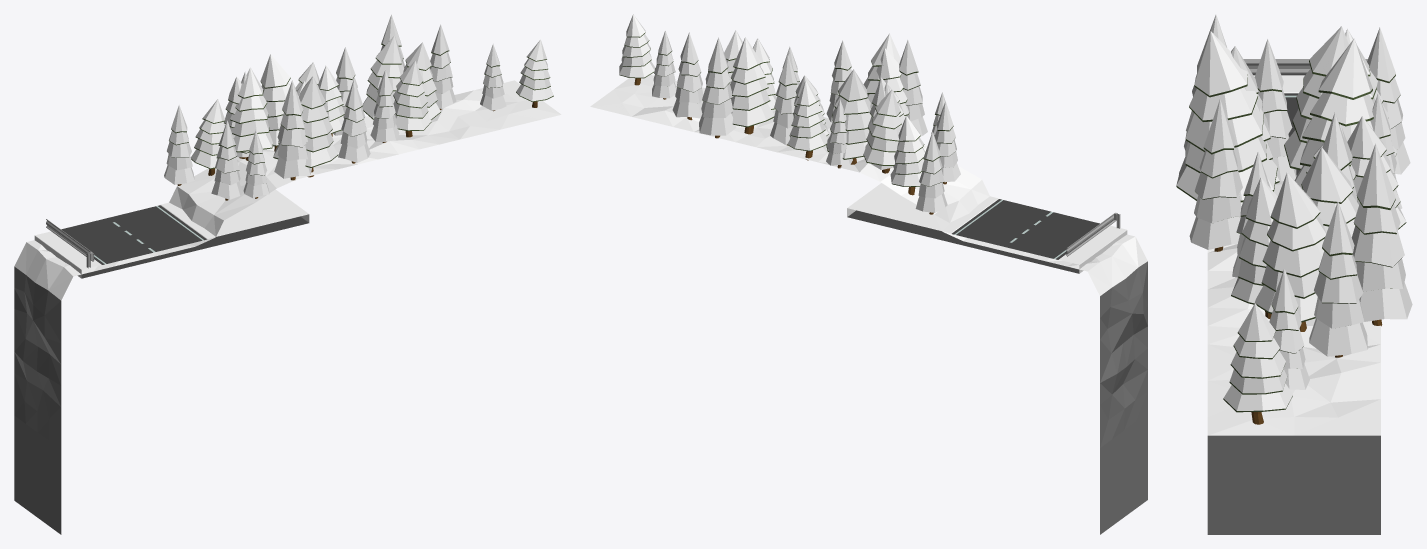
File: SnowRoadStraight.fbx
3 views of the same model, side by side, from view 1: azimuth 30°, elevation 25°; view 2: azimuth 150°, elevation 25°; view 3: azimuth 270°, elevation 25° (orthographic). The views are drawn at different scales.
Visible parts, largest first — view 1: SRSPlane, SRSRoad, SRSPlane|pineTree05|Dupli|4, SRSPlane|pineTree04|Dupli|3, SRSPlane|pineTree04|Dupli|19, SRSPlane|pineTree04|Dupli|21, SRSPlane|pineTree05|Dupli|8, SRSPlane|pineTree04|Dupli|15, SRSPlane|pineTree05|Dupli|18, SRSPlane|pineTree04|Dupli|11, SRSPlane|pineTree05|Dupli|16, SRSPlane|pineTree04|Dupli|23 (+8 smaller); view 2: SRSPlane, SRSRoad, SRSPlane|pineTree04|Dupli|11, SRSPlane|pineTree05|Dupli|12, SRSPlane|pineTree04|Dupli|15, SRSPlane|pineTree04|Dupli|1, SRSPlane|pineTree04|Dupli|7, SRSPlane|pineTree05|Dupli|22, SRSPlane|pineTree04|Dupli|17, SRSPlane|pineTree05|Dupli|18, SRSPlane|pineTree04|Dupli|23, SRSPlane|pineTree05|Dupli|10 (+7 smaller); view 3: SRSPlane, SRSPlane|pineTree04|Dupli|19, SRSPlane|pineTree05|Dupli|12, SRSPlane|pineTree04|Dupli|13, SRSPlane|pineTree05|Dupli|22, SRSPlane|pineTree05|Dupli|8, SRSPlane|pineTree04|Dupli|23, SRSPlane|pineTree04|Dupli|15, SRSPlane|pineTree04|Dupli|21, SRSPlane|pineTree05|Dupli|16, SRSPlane|pineTree04|Dupli|3, SRSPlane|pineTree05|Dupli|14 (+10 smaller).
Boxes of the visible parts, <box> form: SRSPlane: <box>14,80,561,534</box>; SRSRoad: <box>34,189,309,278</box>; SRSPlane|pineTree05|Dupli|4: <box>274,80,311,180</box>; SRSPlane|pineTree04|Dupli|3: <box>230,67,272,160</box>; SRSPlane|pineTree04|Dupli|19: <box>299,76,338,177</box>; SRSPlane|pineTree04|Dupli|21: <box>393,60,431,137</box>; SRSPlane|pineTree05|Dupli|8: <box>338,79,370,163</box>; SRSPlane|pineTree04|Dupli|15: <box>260,54,290,151</box>; SRSPlane|pineTree05|Dupli|18: <box>164,105,194,185</box>; SRSPlane|pineTree04|Dupli|11: <box>362,35,404,119</box>; SRSPlane|pineTree05|Dupli|16: <box>211,120,242,200</box>; SRSPlane|pineTree04|Dupli|23: <box>516,39,553,107</box>; SRSPlane: <box>590,74,1147,534</box>; SRSRoad: <box>847,183,1127,273</box>; SRSPlane|pineTree04|Dupli|11: <box>730,37,774,134</box>; SRSPlane|pineTree05|Dupli|12: <box>699,37,736,138</box>; SRSPlane|pineTree04|Dupli|15: <box>826,69,871,164</box>; SRSPlane|pineTree04|Dupli|1: <box>863,89,901,173</box>; SRSPlane|pineTree04|Dupli|7: <box>787,80,827,160</box>; SRSPlane|pineTree05|Dupli|22: <box>672,32,703,120</box>; SRSPlane|pineTree04|Dupli|17: <box>890,115,925,195</box>; SRSPlane|pineTree05|Dupli|18: <box>915,131,947,214</box>; SRSPlane|pineTree04|Dupli|23: <box>619,14,655,85</box>; SRSPlane|pineTree05|Dupli|10: <box>770,54,797,145</box>; SRSPlane: <box>1207,180,1380,534</box>; SRSPlane|pineTree04|Dupli|19: <box>1176,31,1277,202</box>; SRSPlane|pineTree05|Dupli|12: <box>1351,144,1412,326</box>; SRSPlane|pineTree04|Dupli|13: <box>1255,172,1326,331</box>; SRSPlane|pineTree05|Dupli|22: <box>1309,201,1367,357</box>; SRSPlane|pineTree05|Dupli|8: <box>1189,98,1242,251</box>; SRSPlane|pineTree04|Dupli|23: <box>1223,303,1292,424</box>; SRSPlane|pineTree04|Dupli|15: <box>1294,38,1373,188</box>; SRSPlane|pineTree04|Dupli|21: <box>1231,177,1277,318</box>; SRSPlane|pineTree05|Dupli|16: <box>1254,39,1296,181</box>; SRSPlane|pineTree04|Dupli|3: <box>1284,26,1348,170</box>; SRSPlane|pineTree05|Dupli|14: <box>1269,268,1309,389</box>.
Size of what is drawn, in the model's own units: 12538 by 9320 by 2728.
